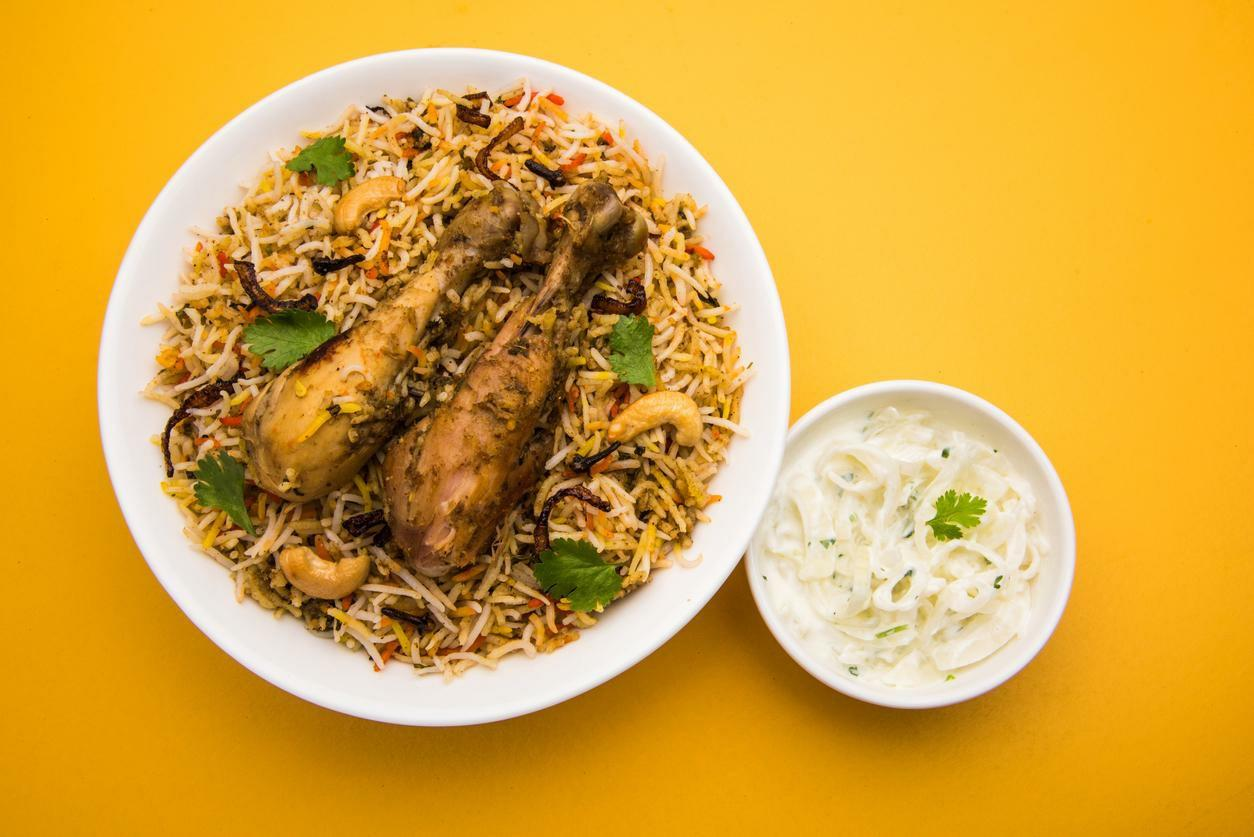Biryani: (132, 77, 760, 686)
